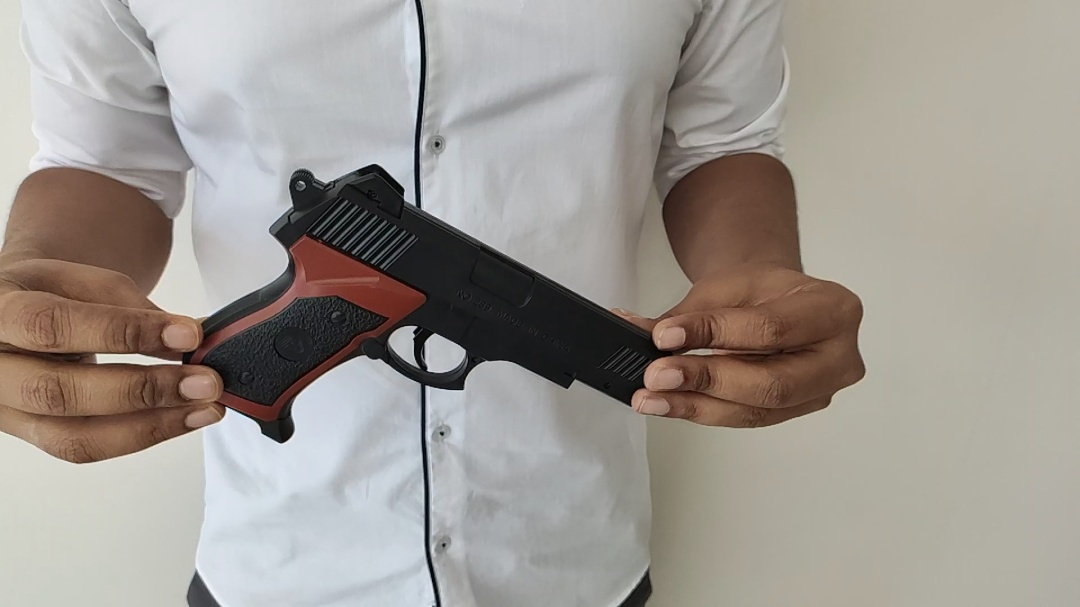gun: (406, 29, 654, 371)
